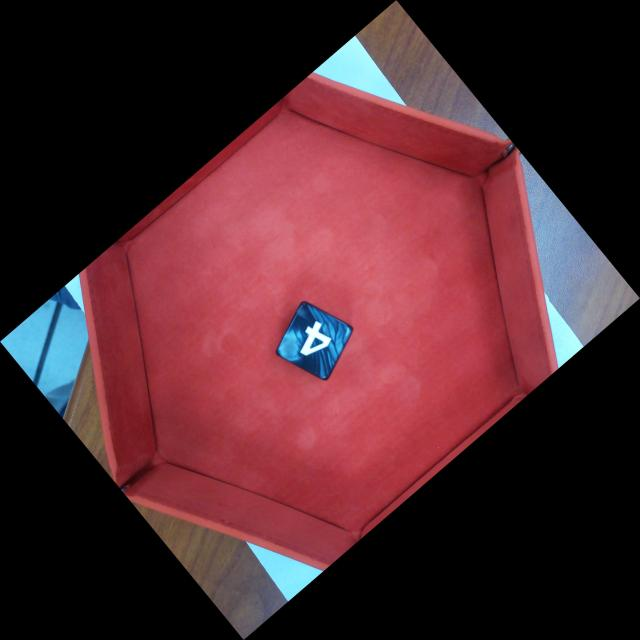dice: (276, 302, 353, 380)
